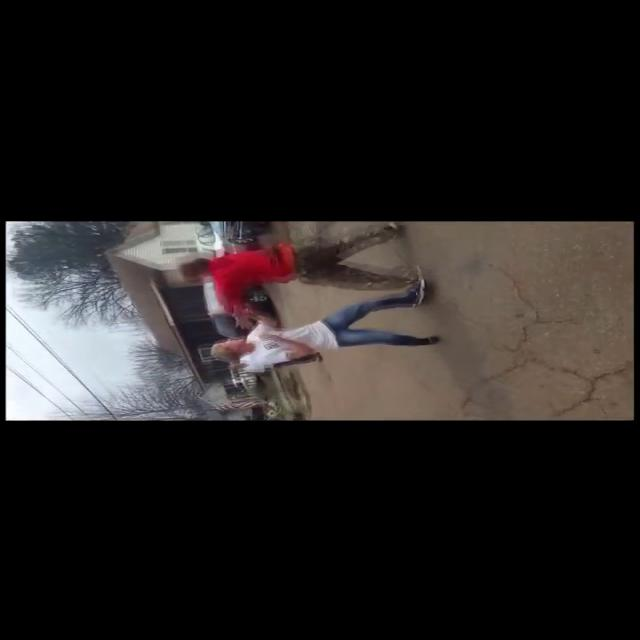Violence: (176, 238, 342, 358)
